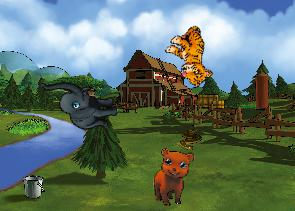bear: (153, 148, 195, 206)
elephant: (41, 69, 120, 137)
tiger: (158, 20, 227, 90)
